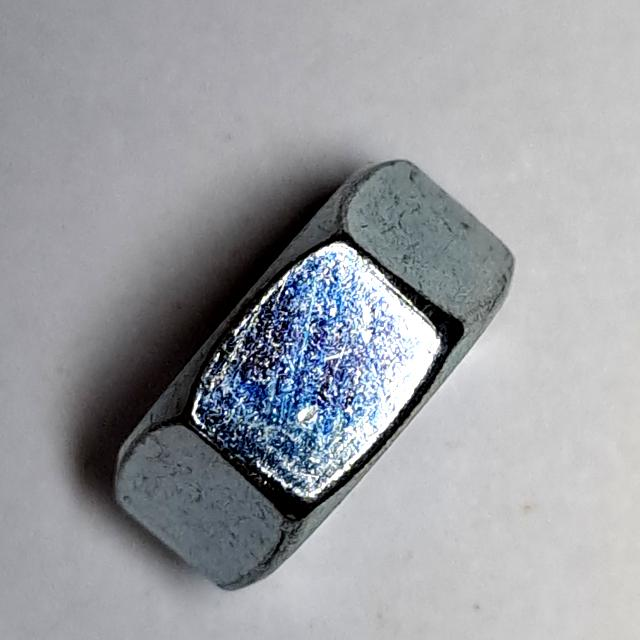Side_Excellent: (102, 143, 522, 612)
